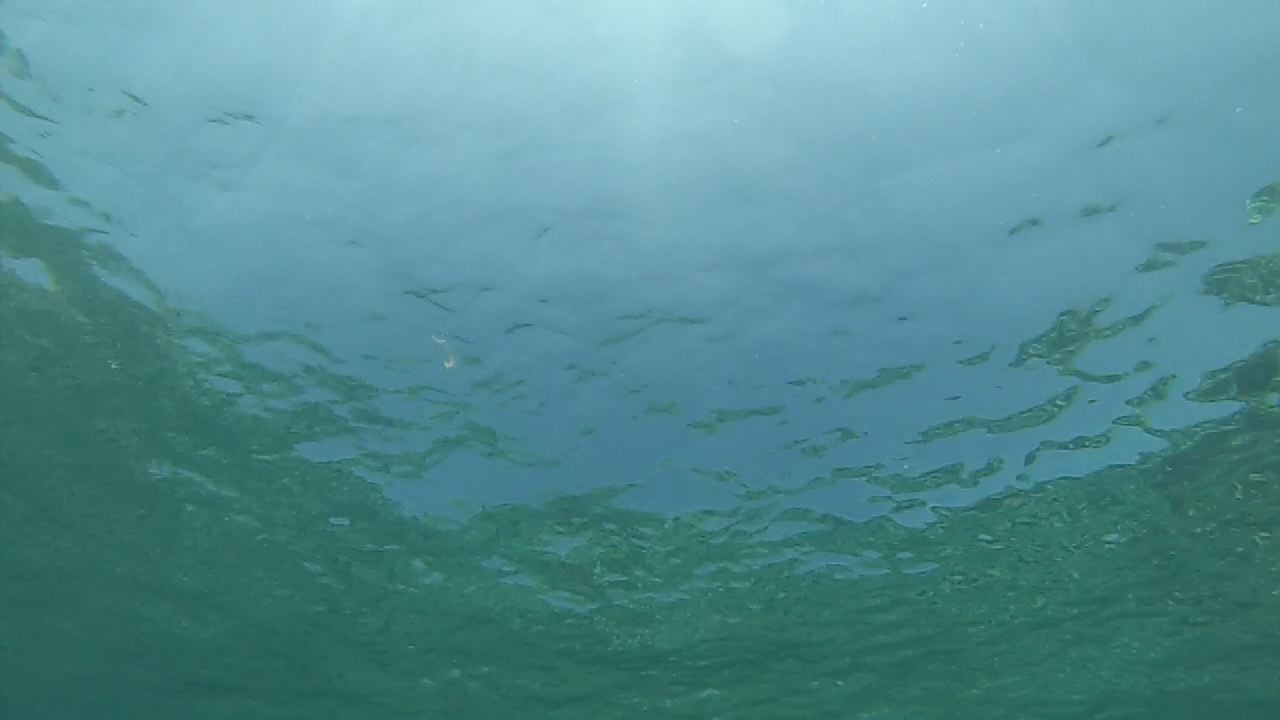pelagia: (428, 323, 467, 379)
